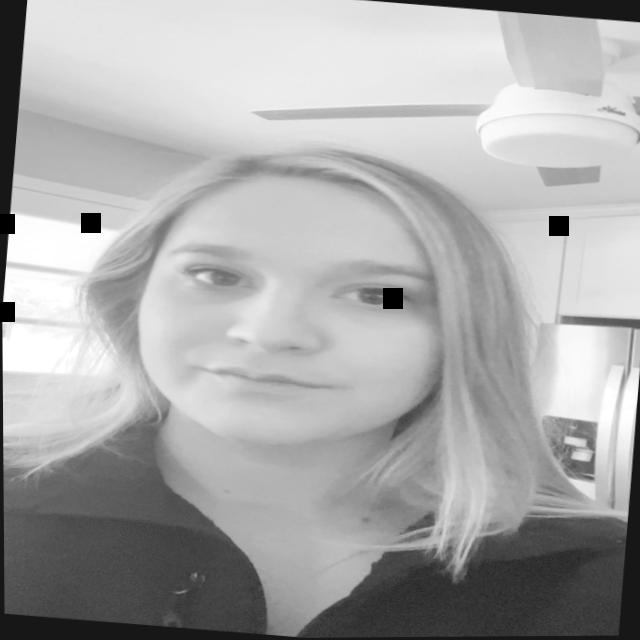NO-Mask: (99, 150, 513, 497)
